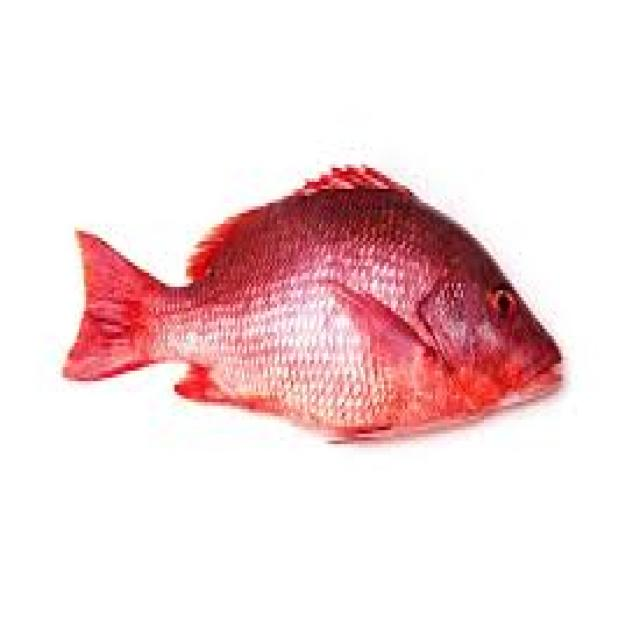northern-red-snapper: (51, 124, 582, 469)
